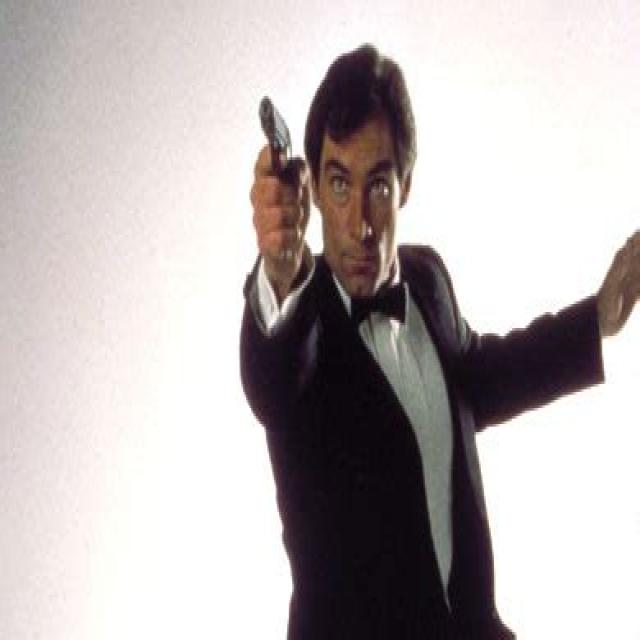weapons: (239, 71, 314, 268)
